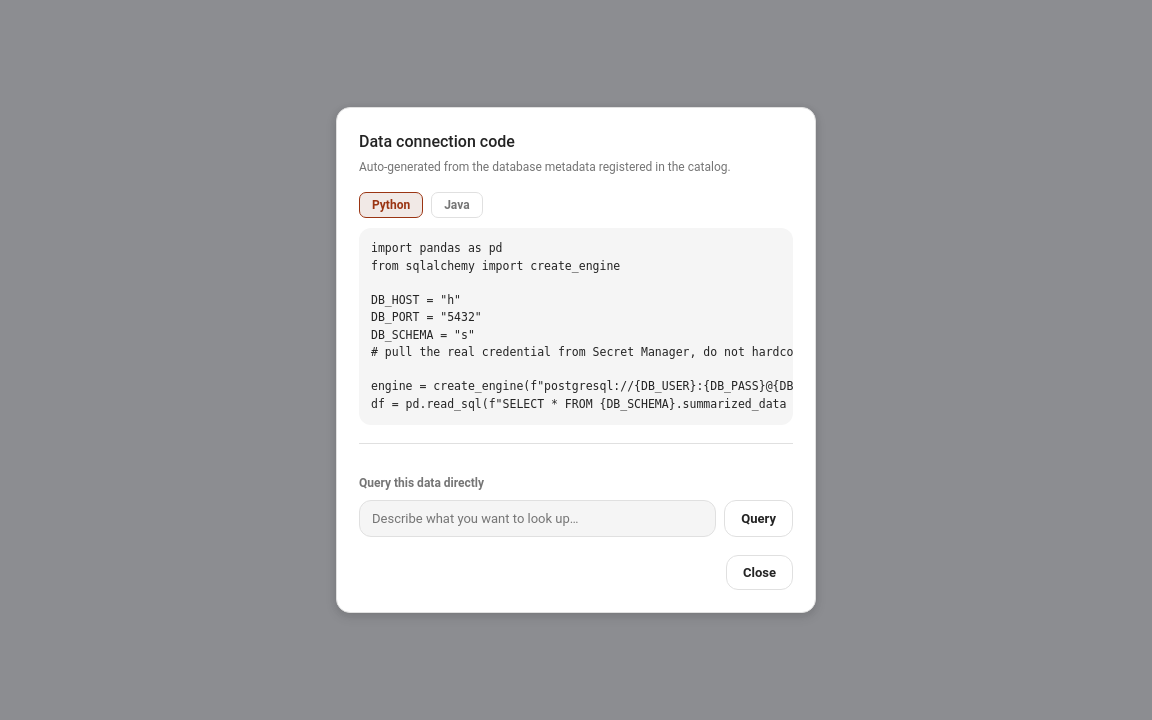
ConnectionCodeDialog › shows a "not wired" message for a product without a real data source
Type "x" into the field with placeholder "Describe what you want to look up…".
click(538, 518); type("x")  # box [359, 500, 716, 537]
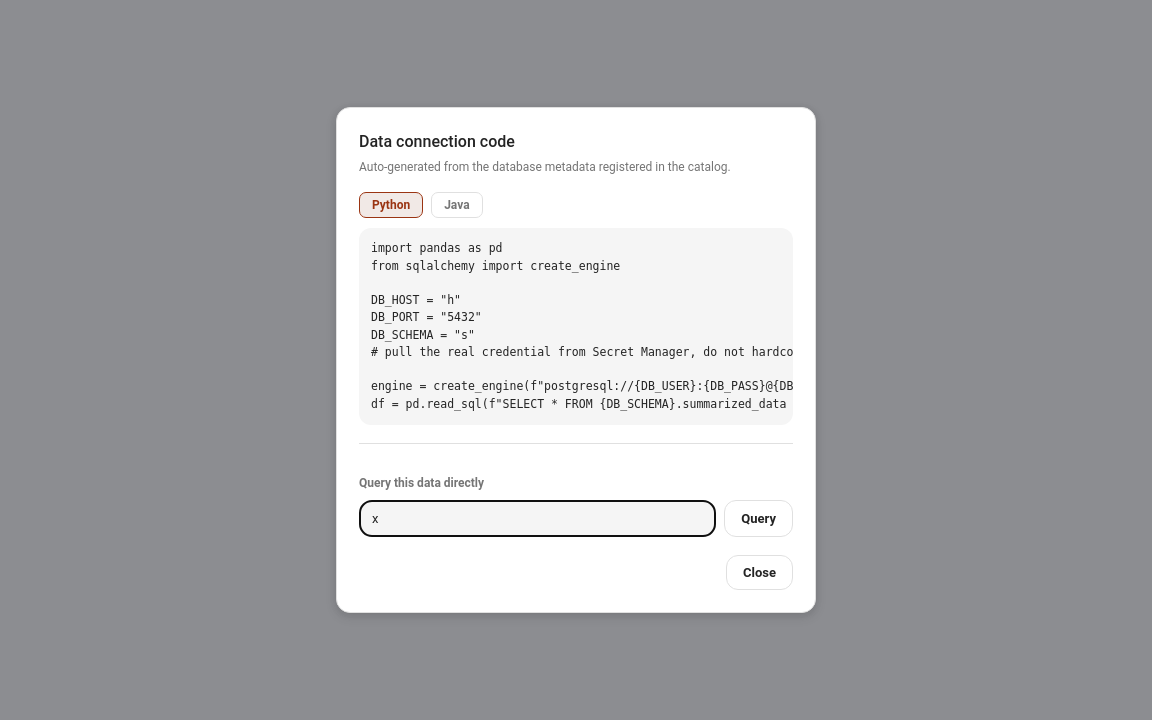
Click the button "Query".
click(759, 518)  # box [724, 500, 793, 537]
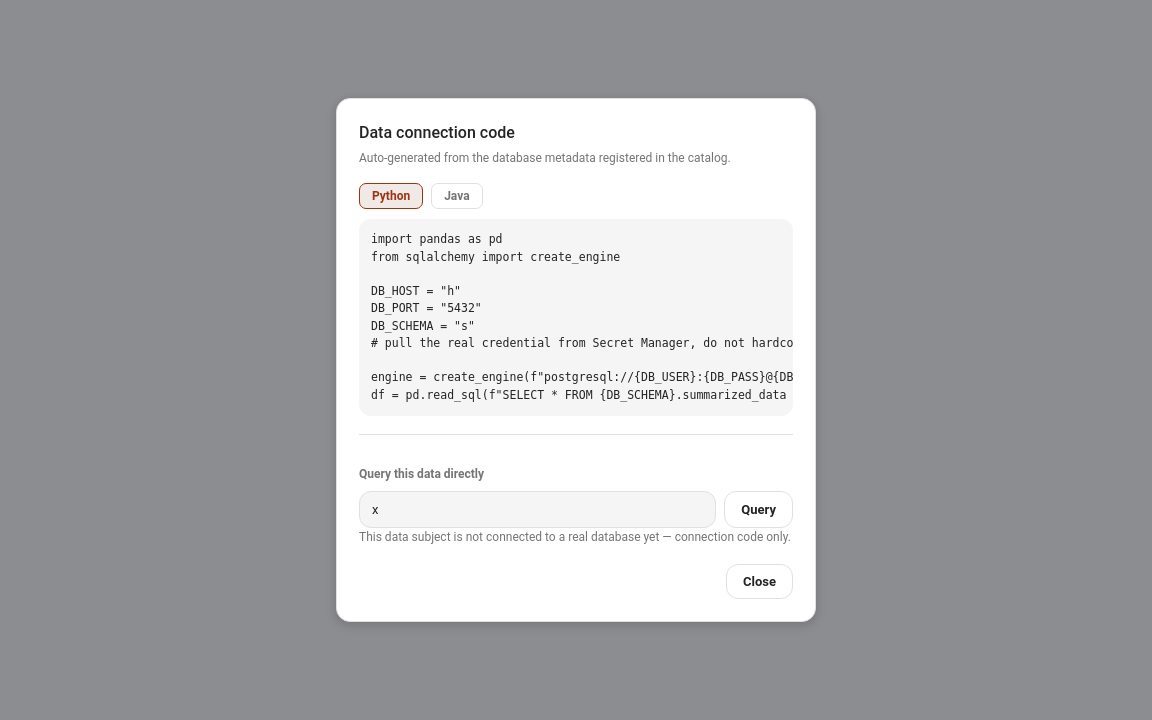
Expected: the text "This data subject is not connected to a real database yet — connection code only." is shown, [359, 530, 791, 544]
